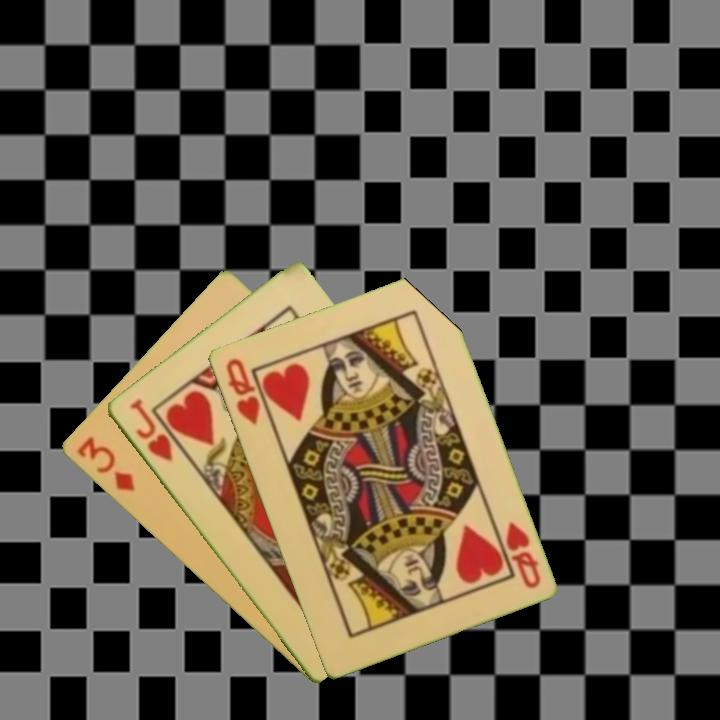3d: (73, 433, 138, 495)
Jh: (125, 394, 176, 464)
Qh: (222, 354, 263, 429), (501, 518, 543, 591)
